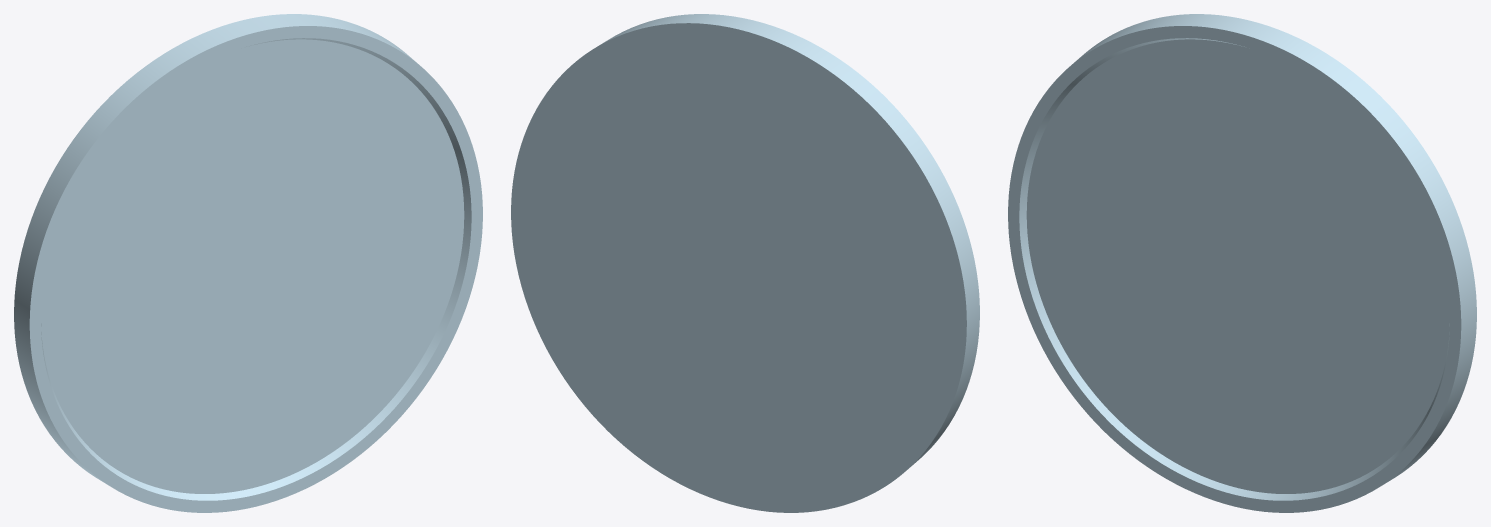
Rendered from Assembly 1 - Bezel (2).gltf.
3 views of the same model, side by side, from view 1: azimuth 30°, elevation 25°; view 2: azimuth 150°, elevation 25°; view 3: azimuth 330°, elevation 25° (orthographic).
Parts seen in each view (by area): view 1: Bezel; view 2: Bezel; view 3: Bezel.
Boxes of the visible parts, <box> form: Bezel: <box>14,14,482,512</box>; Bezel: <box>511,14,979,512</box>; Bezel: <box>1008,14,1476,512</box>.
Bounding box in the file's own units: 0.4572 × 0.4572 × 0.025.
